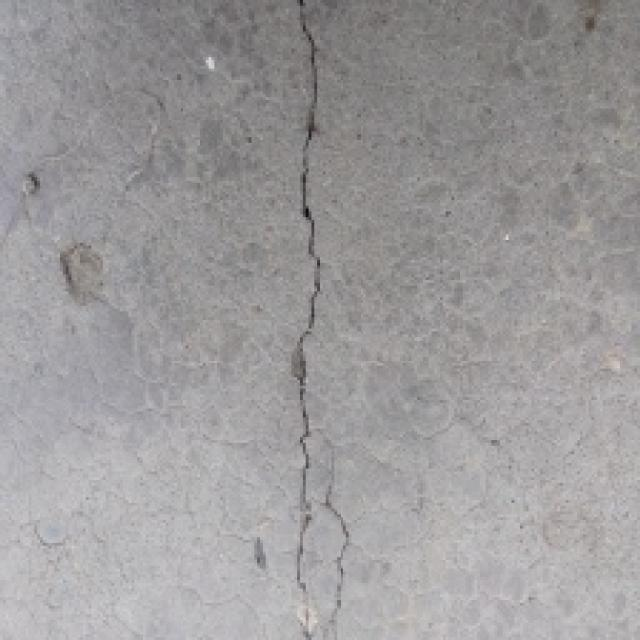crack: (270, 0, 364, 640)
